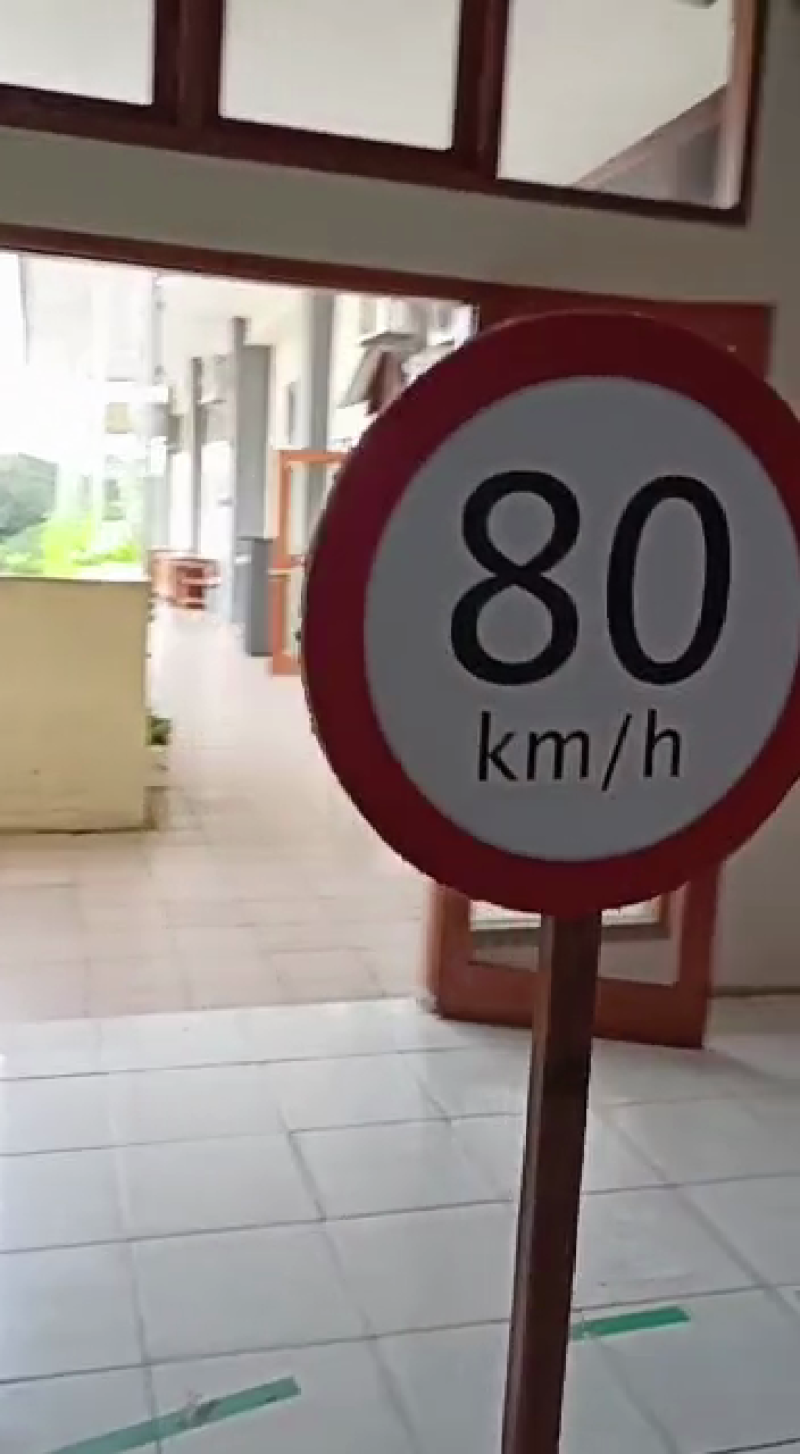batas maksimal 80kmperjam: (287, 312, 800, 929)
